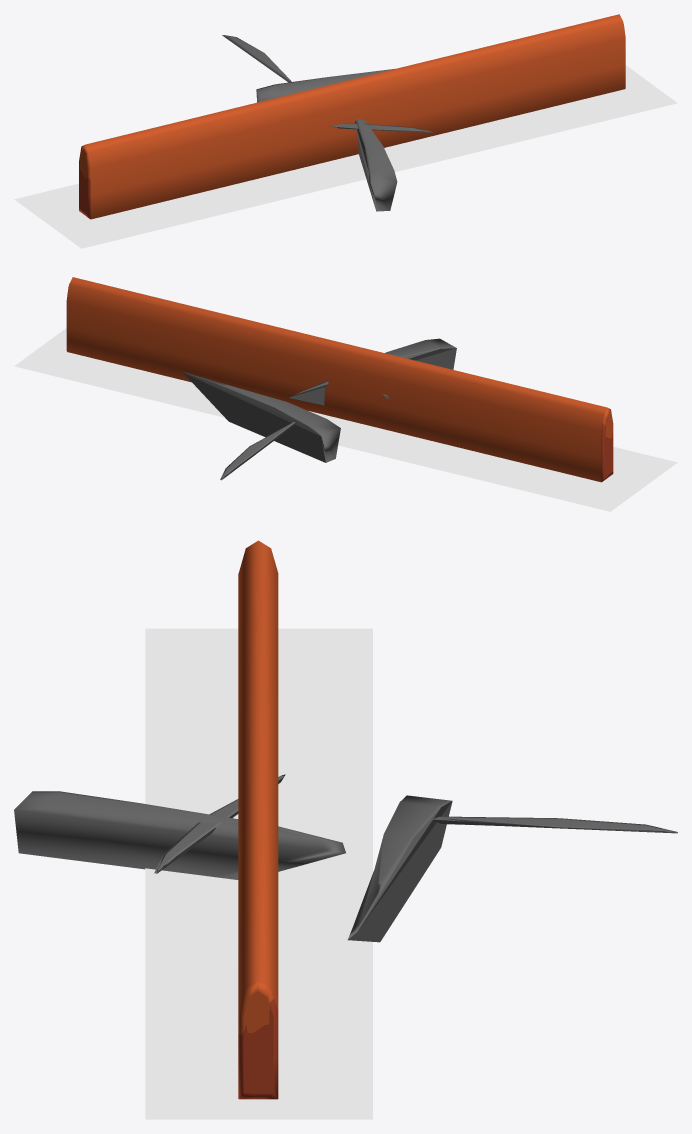
Rendered from NeutralObstacle1.fbx.
The picture shows the model from 3 angles, top to bottom: view 1: azimuth 30°, elevation 25°; view 2: azimuth 150°, elevation 25°; view 3: azimuth 270°, elevation 25°; orthographic projection. The views are drawn at different scales.
Visible parts, largest first — view 1: BasicObstacle, Shadow, GibPiece4, GibPiece2, GibPiece3, GibPiece1; view 2: BasicObstacle, Shadow, GibPiece2, GibPiece4, GibPiece3; view 3: Shadow, BasicObstacle, GibPiece4, GibPiece2, GibPiece3, GibPiece1.
Boxes of the visible parts, left/top/right/bottom form: BasicObstacle: left=79, top=14, right=625, bottom=219; Shadow: left=14, top=65, right=677, bottom=248; GibPiece4: left=355, top=119, right=397, bottom=211; GibPiece2: left=256, top=68, right=395, bottom=102; GibPiece3: left=222, top=35, right=291, bottom=82; GibPiece1: left=331, top=123, right=432, bottom=132; BasicObstacle: left=66, top=277, right=613, bottom=482; Shadow: left=14, top=328, right=677, bottom=511; GibPiece2: left=182, top=371, right=340, bottom=462; GibPiece4: left=289, top=338, right=456, bottom=405; GibPiece3: left=220, top=421, right=296, bottom=480; Shadow: left=145, top=628, right=372, bottom=1119; BasicObstacle: left=238, top=540, right=278, bottom=1099; GibPiece4: left=14, top=791, right=345, bottom=879; GibPiece2: left=347, top=795, right=452, bottom=942; GibPiece3: left=433, top=816, right=677, bottom=833; GibPiece1: left=154, top=774, right=285, bottom=873.
Bounding box in the file's own units: 3.47 × 0.3992 × 1.98.
